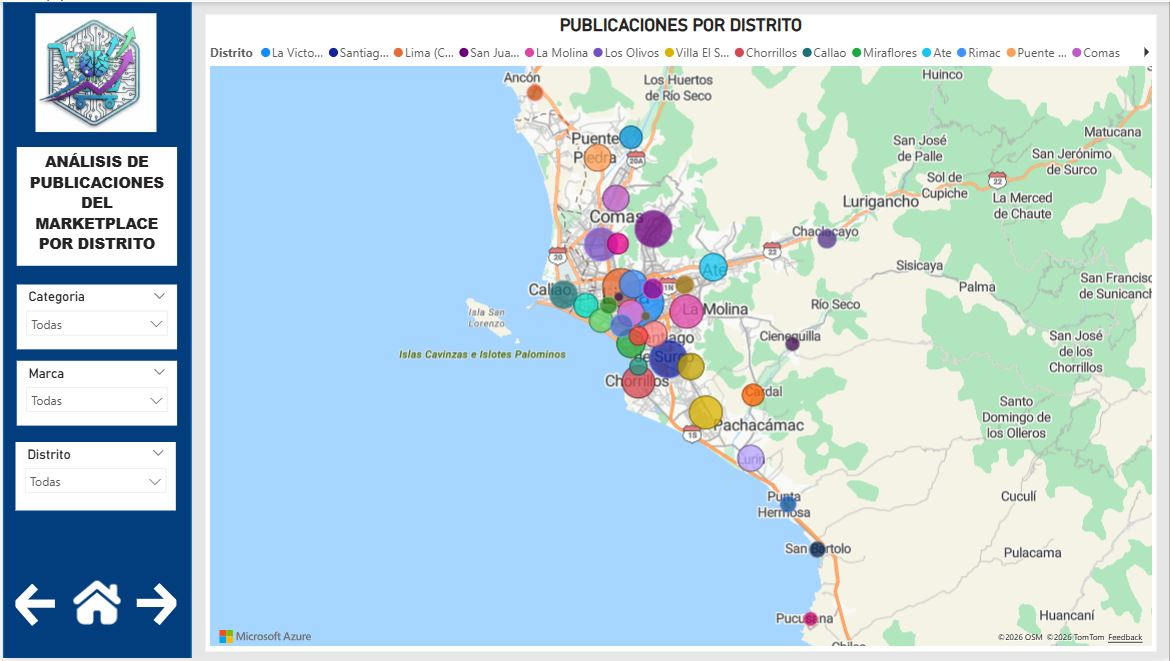

What the dashboard file says about the page in this screenshot:
{"tool":"powerbi","page":{"name":"Analisis_Distritos","canvas":[1280,720],"ordinal":2},"visuals":[{"type":"shape","box":[0,0,207,721],"z":0},{"type":"slicer","fields":{"Values":["dataset_mkpfacebook_electronica_v2.Distrito_Limpio"]},"box":[13.7,483,175.6,75.5],"z":1000},{"type":"image","box":[35.6,12.3,133,130.2],"z":2000},{"type":"textbox","box":[15.1,159.2,175.6,130.4],"z":3000},{"type":"slicer","fields":{"Values":["dataset_mkpfacebook_electronica_v2.Marca"]},"box":[15.1,393.8,175.6,71.4],"z":4000},{"type":"slicer","fields":{"Values":["dataset_mkpfacebook_electronica_v2.Categoria"]},"box":[15.1,310.1,175.6,71.4],"z":5000},{"type":"azureMap","title":"PUBLICACIONES POR DISTRITO","fields":{"Y":["Tabla_Geografica.Latitud"],"X":["Tabla_Geografica.Longitud"],"Size":["CountNonNull(dataset_mkpfacebook_electronica_v2.Titulo_Limpio)"],"Series":["Tabla_Geografica.Distrito"]},"box":[222,13.3,1043.6,698.5],"z":6000},{"type":"image","box":[67.6,623.7,72.4,73.6],"z":7000},{"type":"actionButton","box":[139.9,633.4,56.7,54.3],"z":8000},{"type":"actionButton","box":[9.7,633.4,54.3,55.5],"z":9000}]}

Visuals, with their boxes in screenshot pixels (x1, y1, x2, y2), scaled from the page's 1280x720 canvas onto the 1170x661 screenshot:
shape: left=0, top=0, right=189, bottom=660
slicer - dataset_mkpfacebook_electronica_v2.Distrito_Limpio: left=13, top=443, right=173, bottom=513
image: left=33, top=11, right=154, bottom=131
textbox: left=14, top=146, right=174, bottom=266
slicer - dataset_mkpfacebook_electronica_v2.Marca: left=14, top=362, right=174, bottom=427
slicer - dataset_mkpfacebook_electronica_v2.Categoria: left=14, top=285, right=174, bottom=350
"PUBLICACIONES POR DISTRITO" azureMap: left=203, top=12, right=1157, bottom=653
image: left=62, top=573, right=128, bottom=640
actionButton: left=128, top=581, right=180, bottom=631
actionButton: left=9, top=581, right=58, bottom=632
